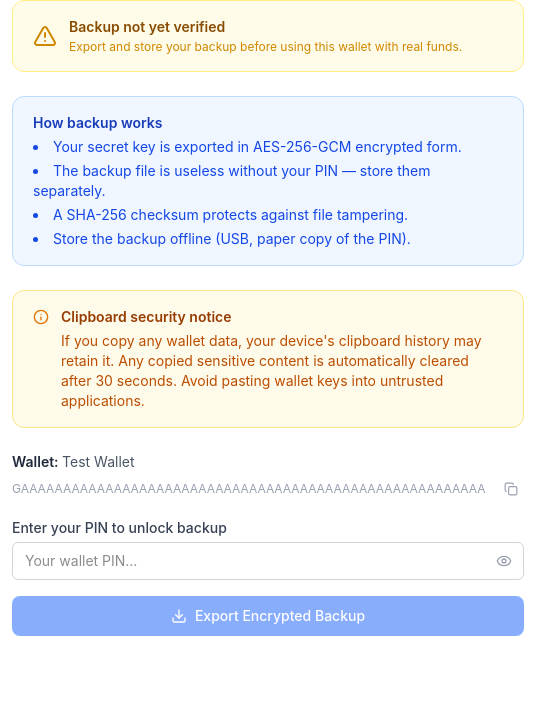
Test: WalletBackup – export flow › shows success banner after a successful export
This screenshot has width=543, height=707.
Type "1234" into the password field with placeholder "Your wallet PIN…" at x=268, y=561, box [12, 542, 524, 580]
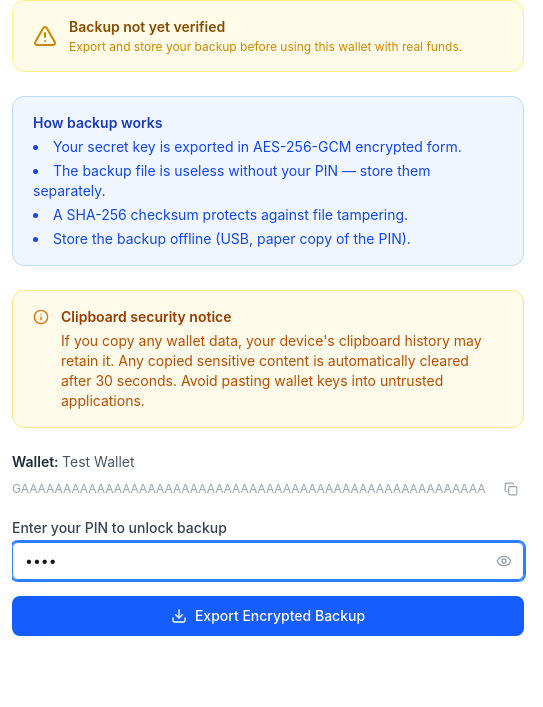
Click the button "Export Encrypted Backup" at x=268, y=616, box [12, 596, 524, 636]
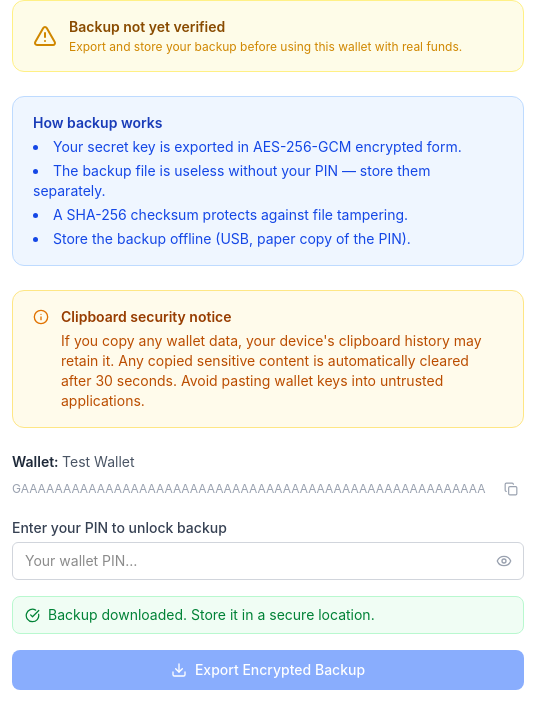
Result: the text "Backup downloaded. Store it in a secure location." is shown at [12, 596, 524, 634]
